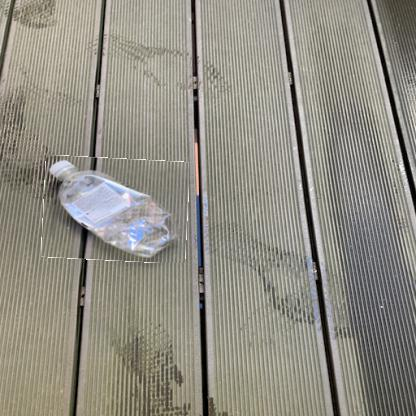plastic-bottles: (43, 158, 190, 263)
